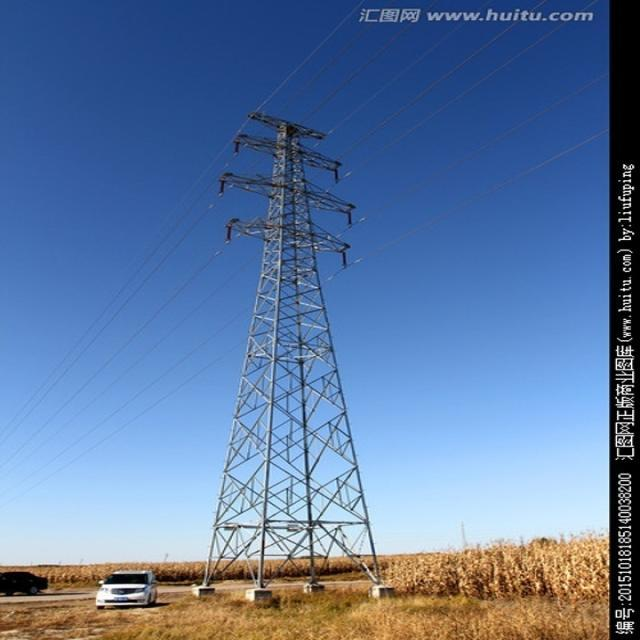non-critical vegetation: (196, 108, 392, 566)
